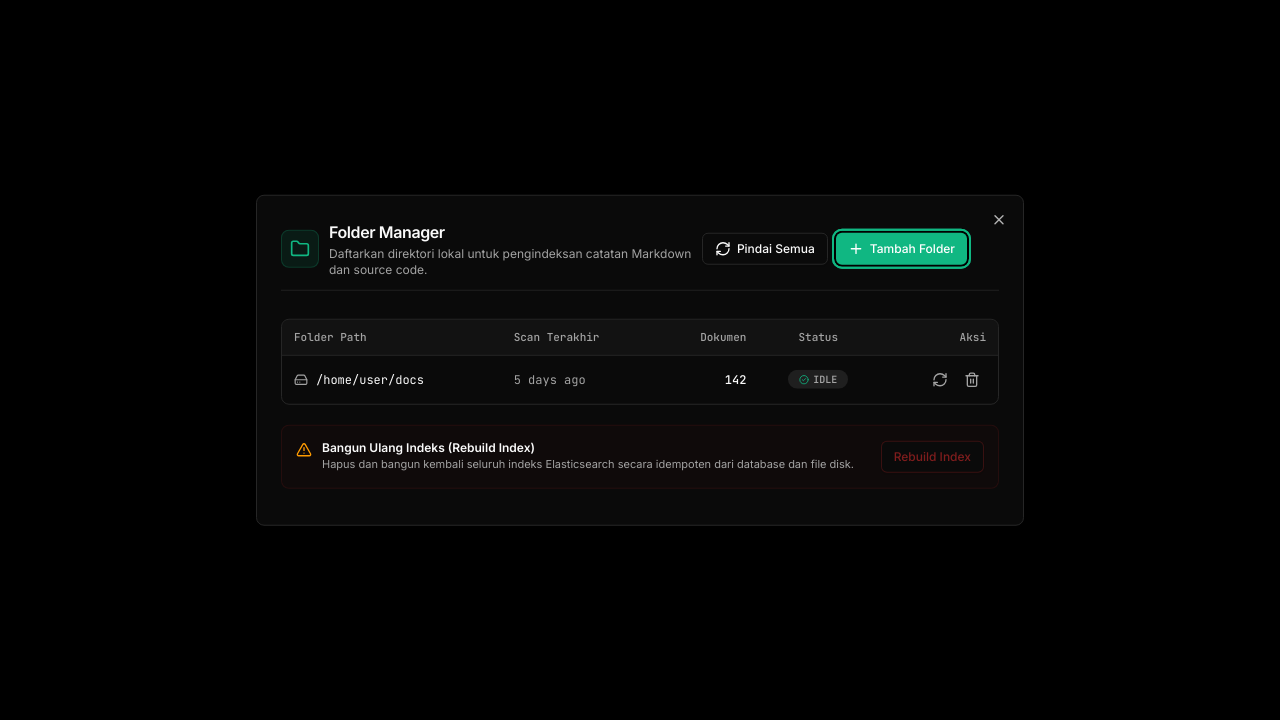
Test: FolderManagerModal › opens confirmation modal and executes folder deletion
This screenshot has width=1280, height=720.
Expected: the text "/home/user/docs" is shown, x1=316 y1=371 x2=424 y2=387
Click the button named "Hapus /home/user/docs": (972, 379) x1=958 y1=365 x2=986 y2=393
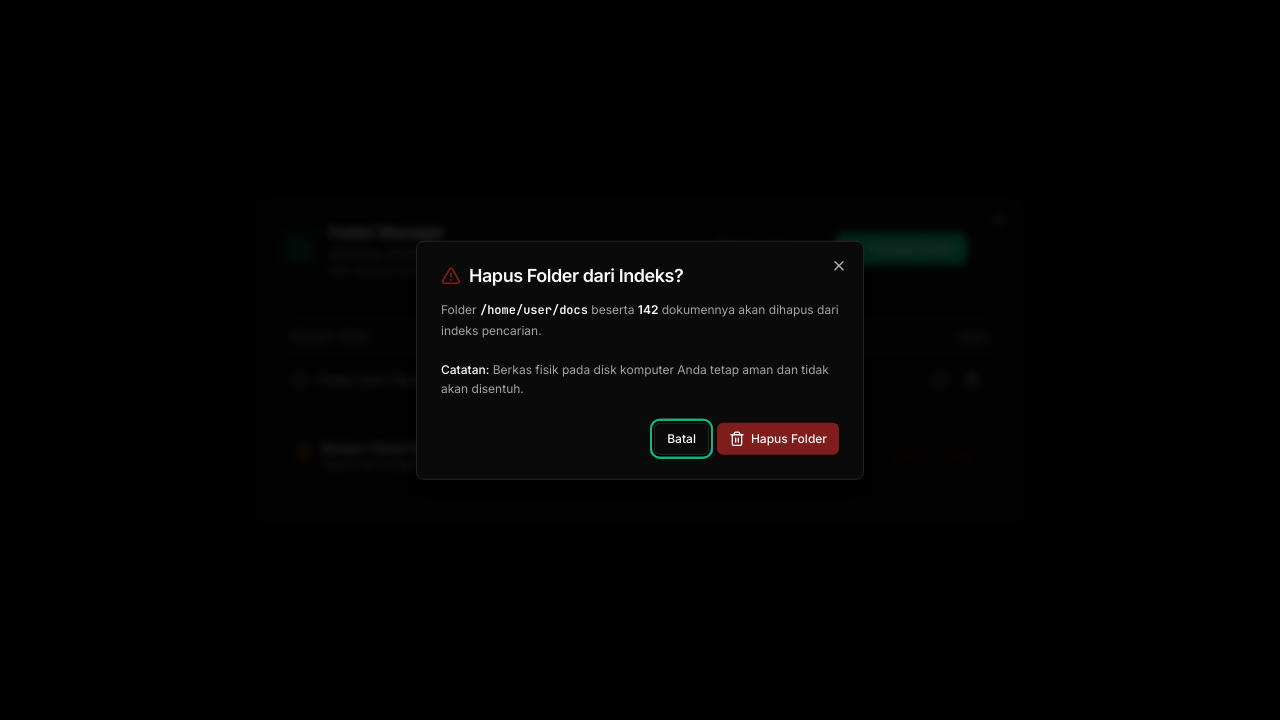
Now the heading "Hapus Folder dari Indeks?" is shown, box x1=469 y1=267 x2=683 y2=285
Now the text "Hapus Folder" is shown, box x1=751 y1=430 x2=827 y2=446
Click the button "Hapus Folder": (778, 438) x1=717 y1=422 x2=839 y2=454
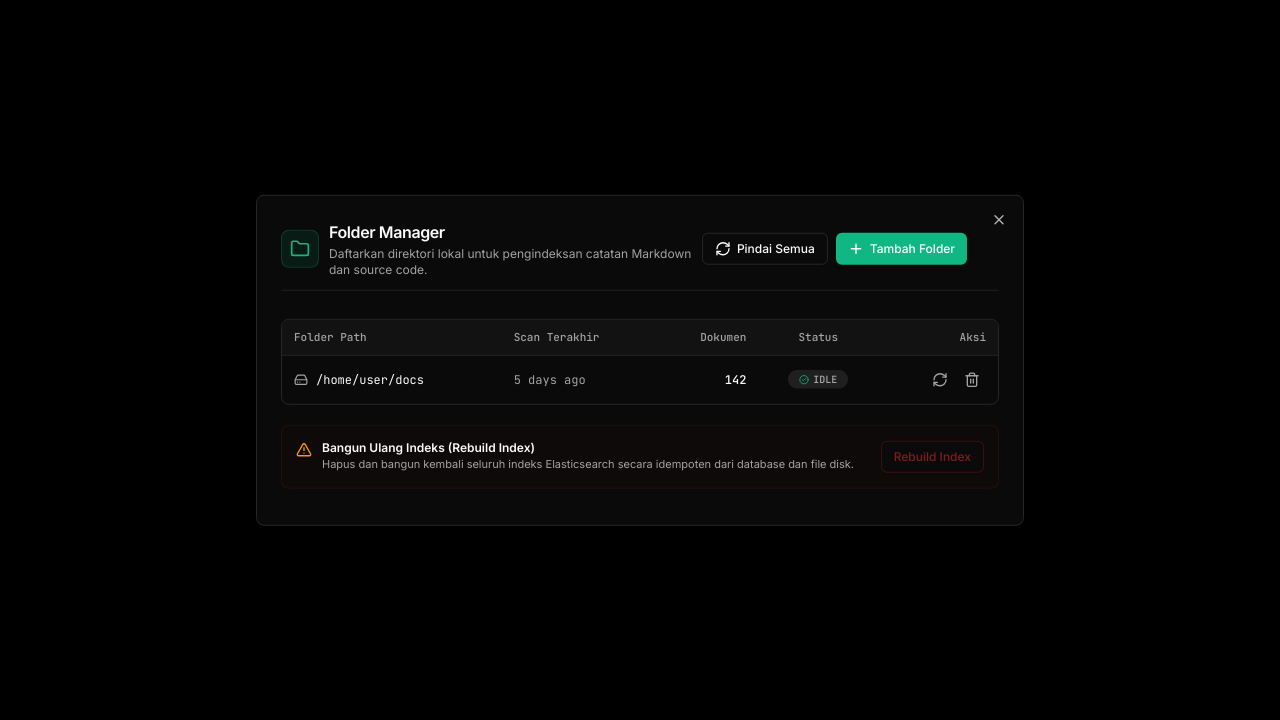
Now the heading "Hapus Folder dari Indeks?" is gone
